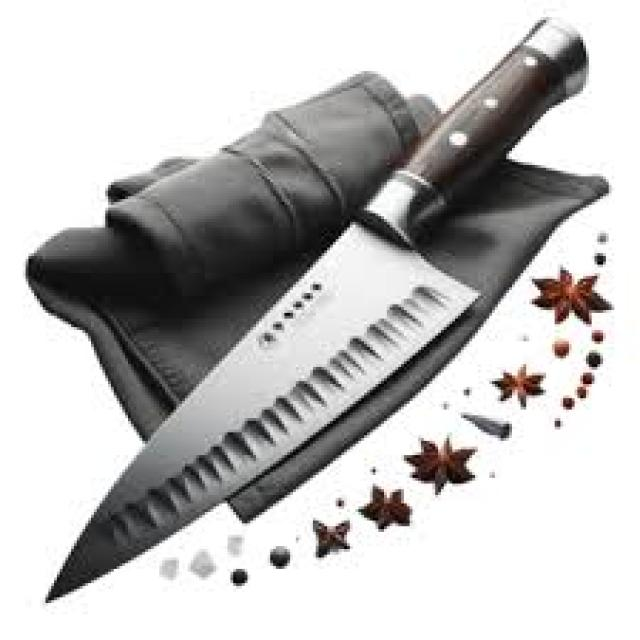Knife: (42, 14, 592, 603)
